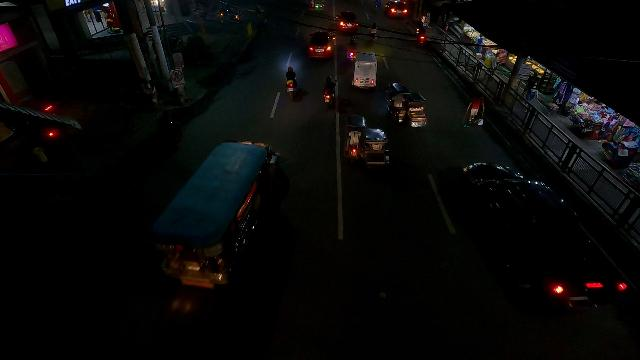car: (445, 159, 626, 314), (308, 28, 334, 60), (335, 10, 359, 33), (385, 0, 412, 19)
jeepney: (160, 135, 281, 286)
motorcycle: (281, 64, 300, 99), (321, 75, 338, 105), (415, 26, 427, 47), (346, 40, 358, 61)
truck: (352, 51, 380, 87)
